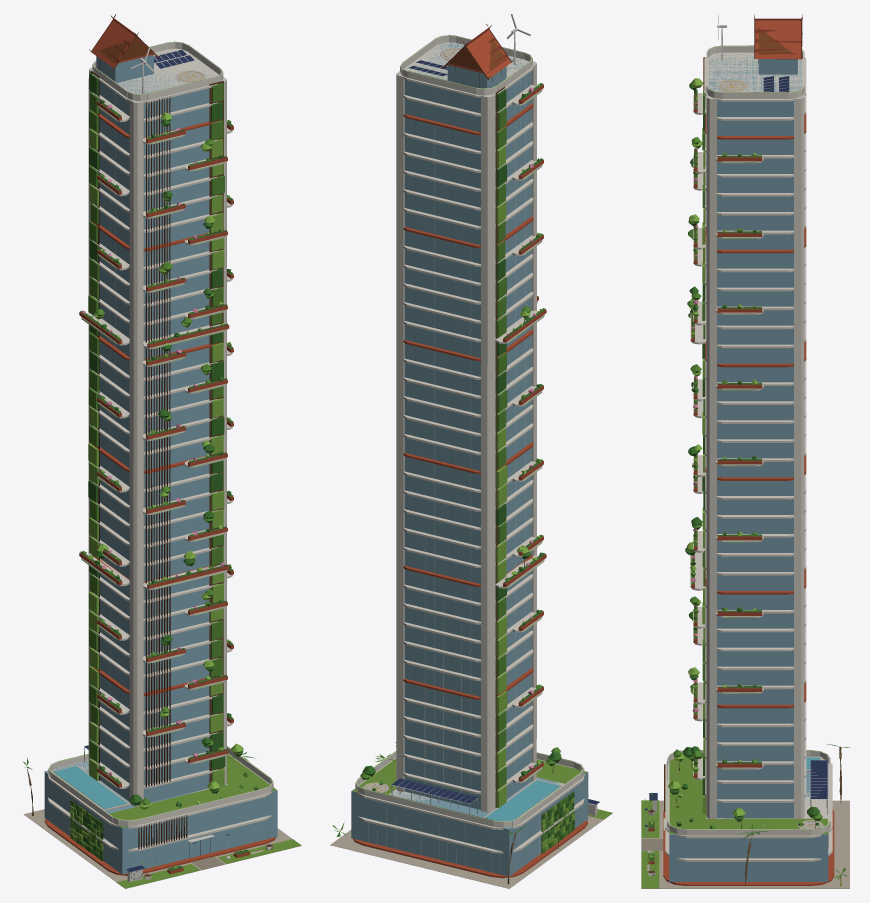
The model's file is home_5.glb.
The picture shows the model from 3 angles, left to right: view 1: azimuth 30°, elevation 25°; view 2: azimuth 150°, elevation 25°; view 3: azimuth 270°, elevation 25°; orthographic projection. The views are drawn at different scales.
Parts seen in each view (by area): view 1: body, windows; view 2: body, windows; view 3: body, windows.
Part boxes in pixels (x1,y1,x2,y2): body: (23,14,301,888); windows: (49,41,272,820); body: (330,14,612,888); windows: (356,35,583,821); body: (641,14,849,888); windows: (667,45,829,829).
Bounding box in the file's own units: 34.83 × 138 × 32.77.
